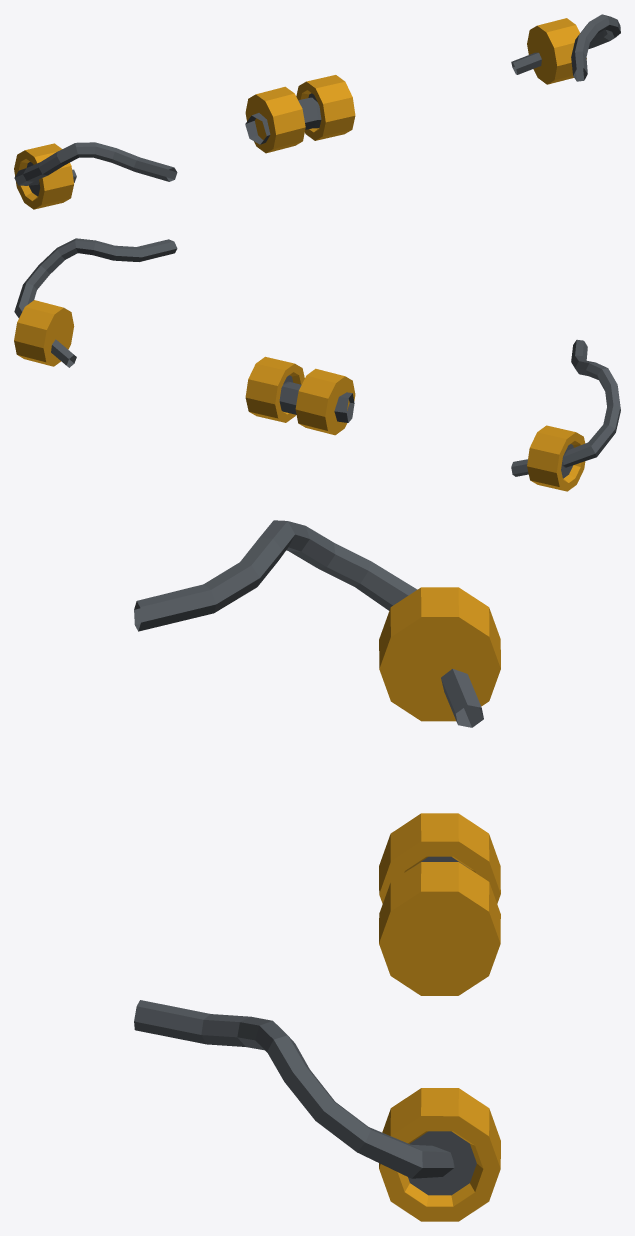
File: Dropship_01_Cables_Yellow.fbx
3 renders of one model, top to bottom at view 1: azimuth 30°, elevation 25°; view 2: azimuth 150°, elevation 25°; view 3: azimuth 270°, elevation 25°, orthographic. The views are drawn at different scales.
Visible parts, largest first — view 1: Dropship_01_Cables_Yellow; view 2: Dropship_01_Cables_Yellow; view 3: Dropship_01_Cables_Yellow.
Boxes of the visible parts, x1=… form: Dropship_01_Cables_Yellow: x1=14, y1=14, x2=620, y2=209; Dropship_01_Cables_Yellow: x1=14, y1=238, x2=620, y2=491; Dropship_01_Cables_Yellow: x1=134, y1=520, x2=500, y2=1221.
Bounding box in the file's own units: 952 × 138 × 255.
Materials: 1 (1 with a texture image).
